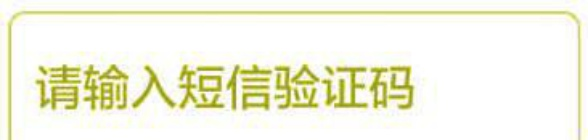EditText: (1, 1, 587, 139)
